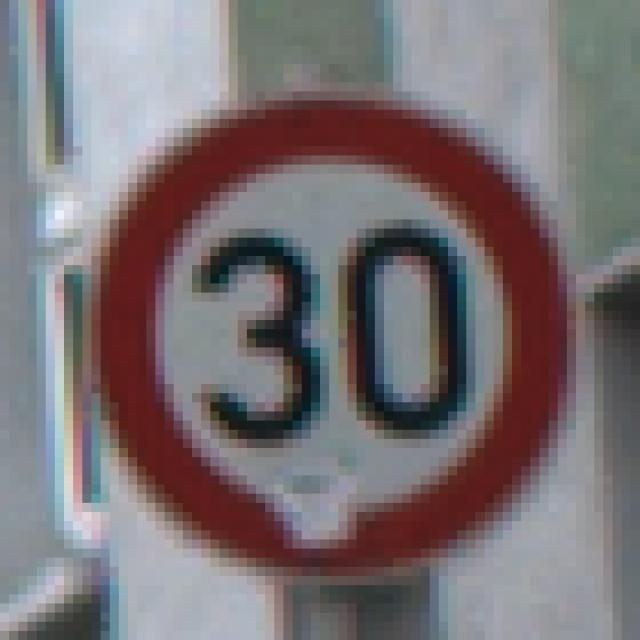Speed Limit -30-: (59, 59, 572, 572)
